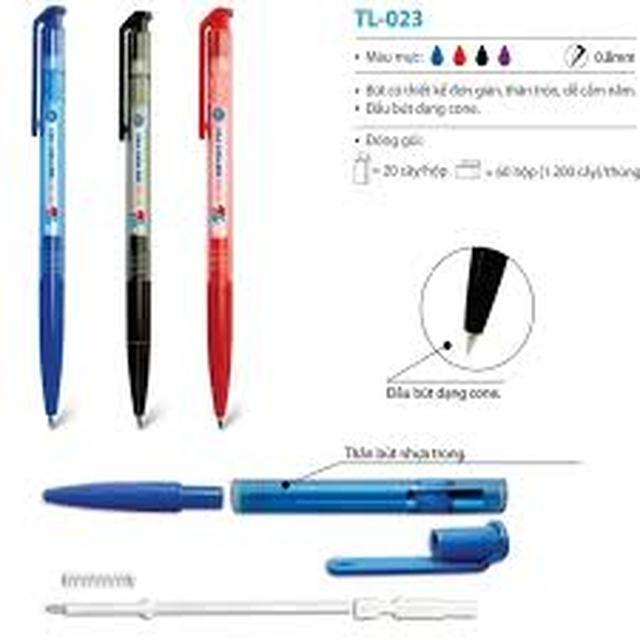pen: (21, 460, 523, 575), (21, 15, 90, 422), (191, 10, 240, 448), (121, 7, 157, 416)
